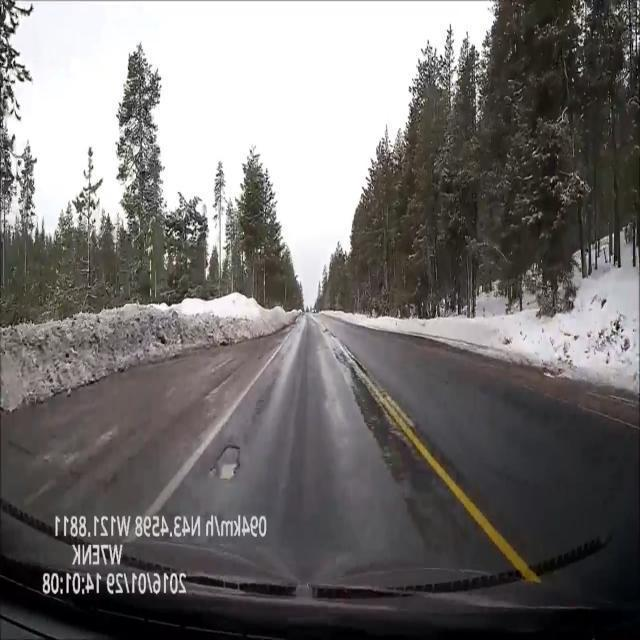pothole: (208, 435, 245, 487)
